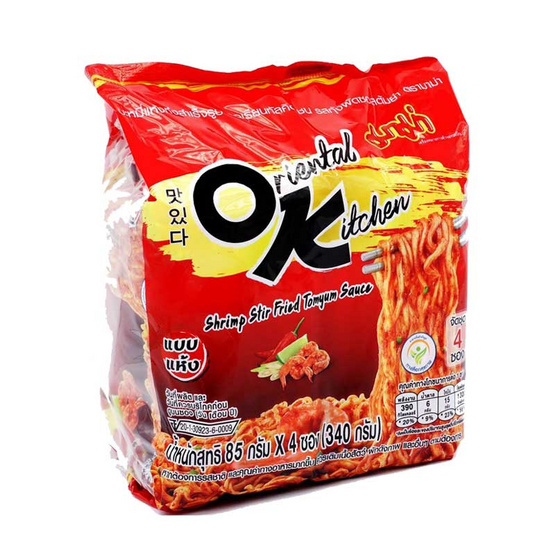Snack: (76, 47, 476, 520)
